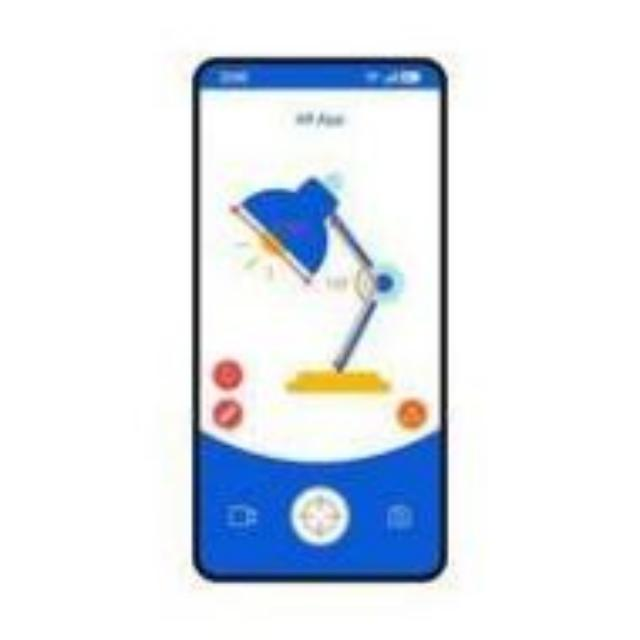PhoneUse: (188, 56, 446, 584)
